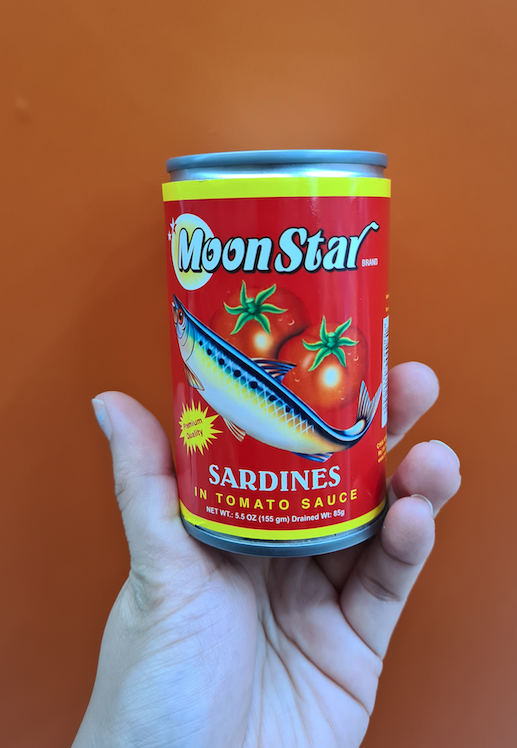Canned_Sardines_and_Mackerel: (169, 167, 392, 535)
